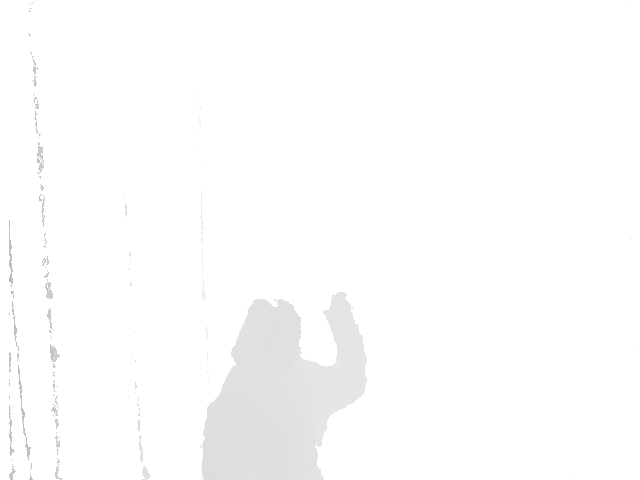hand: (320, 290, 362, 346)
head: (232, 298, 308, 370)
person: (199, 286, 369, 480)
